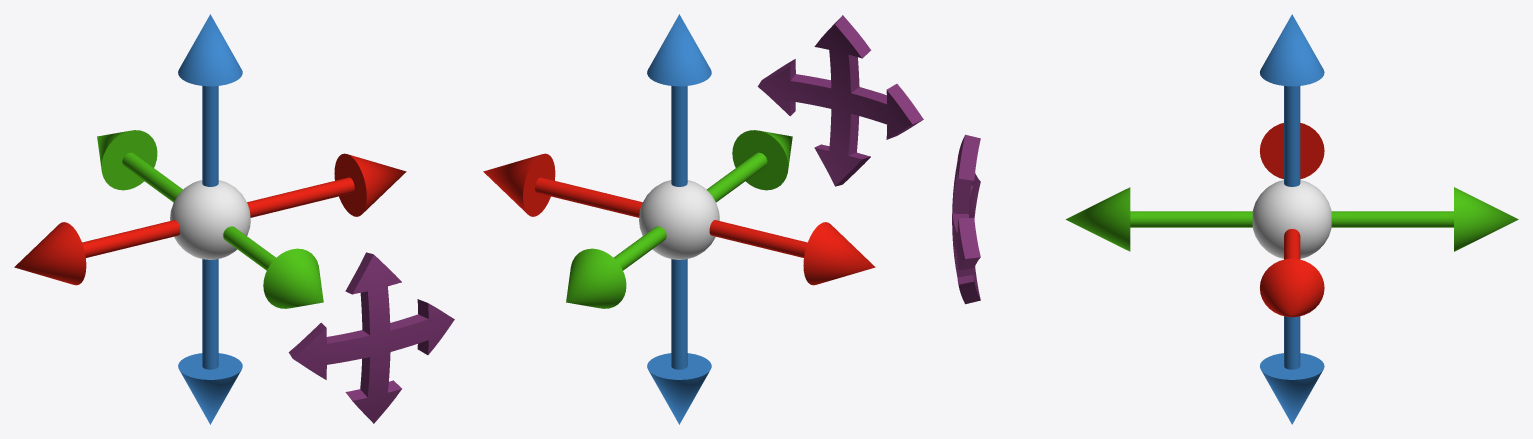
The model's file is cursors.glb.
3 renders of one model, left to right at view 1: azimuth 30°, elevation 25°; view 2: azimuth 150°, elevation 25°; view 3: azimuth 270°, elevation 25°, orthographic.
Visible parts, largest first — view 1: Rotate, ZArrow, XArrow, YArrow, Center; view 2: Rotate, ZArrow, XArrow, YArrow, Center; view 3: YArrow, ZArrow, XArrow, Center, Rotate.
Boxes of the visible parts, x1,y1,x2,y2 form: Rotate: [288, 252, 454, 423]; ZArrow: [178, 14, 242, 424]; XArrow: [14, 153, 406, 285]; YArrow: [97, 130, 323, 308]; Center: [170, 180, 250, 259]; Rotate: [757, 15, 923, 186]; ZArrow: [647, 14, 711, 424]; XArrow: [483, 153, 875, 285]; YArrow: [566, 130, 792, 308]; Center: [639, 180, 719, 259]; YArrow: [1065, 187, 1518, 251]; ZArrow: [1260, 14, 1324, 424]; XArrow: [1260, 123, 1324, 317]; Center: [1252, 180, 1331, 258]; Rotate: [952, 134, 980, 304].
Bounding box in the file's own units: 2.8 × 2.8 × 3.5.
